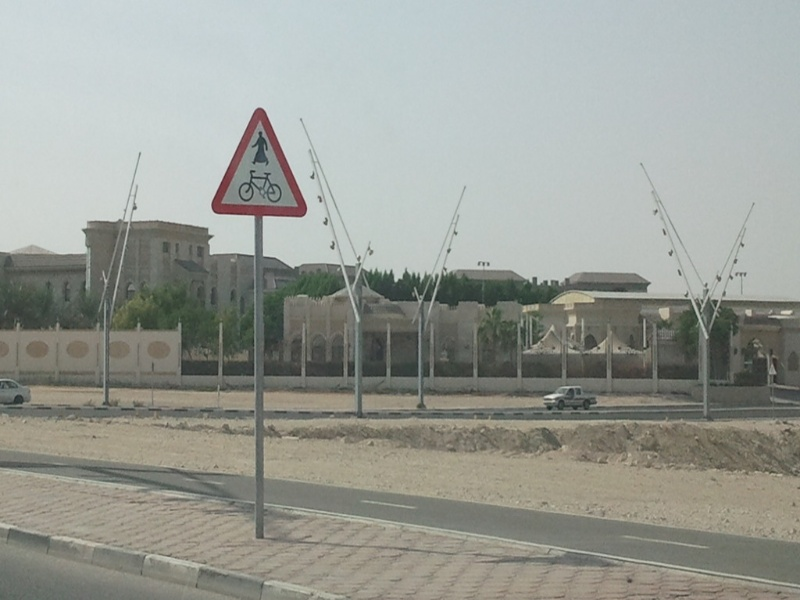cycle_route_ahead: (219, 111, 322, 222)
